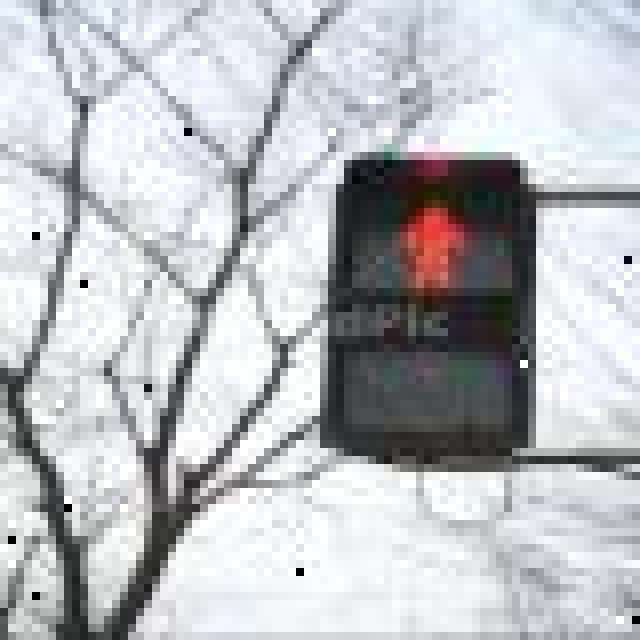redlight: (338, 148, 540, 475)
